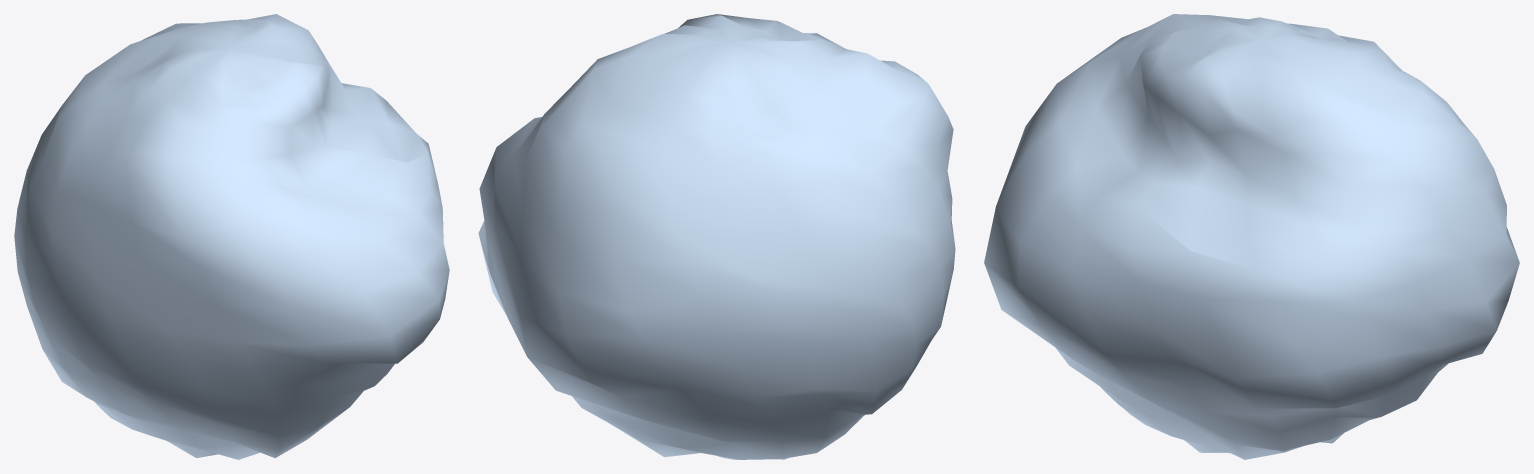
Rendered from lAsteroid1.obj.
3 renders of one model, left to right at view 1: azimuth 30°, elevation 25°; view 2: azimuth 150°, elevation 25°; view 3: azimuth 270°, elevation 25°, orthographic. The views are drawn at different scales.
Parts seen in each view (by area): view 1: sphere7; view 2: sphere7; view 3: sphere7.
Boxes of the visible parts, x1,y1,x2,y2 form: sphere7: (14,14,449,459); sphere7: (478,14,955,459); sphere7: (984,14,1519,459).
Size of the model in its own units: 21.78 by 20.25 by 24.27.
